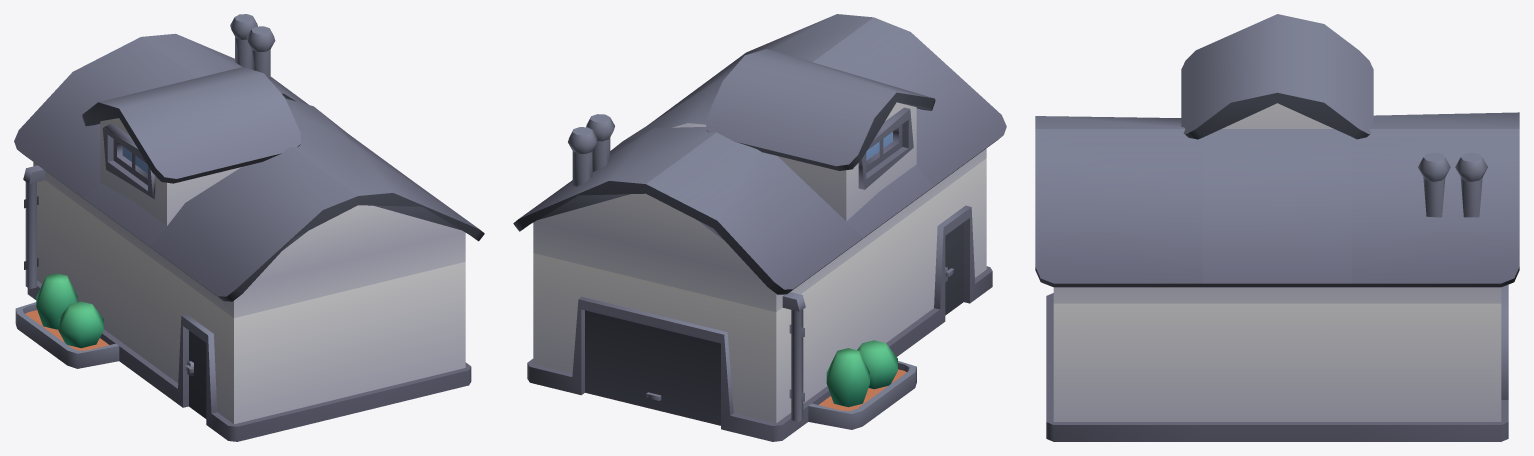
Rendered from building-j.lod.glb.
3 views of the same model, side by side, from view 1: azimuth 30°, elevation 25°; view 2: azimuth 150°, elevation 25°; view 3: azimuth 270°, elevation 25° (orthographic). The views are drawn at different scales.
Parts seen in each view (by area): view 1: building-j; view 2: building-j; view 3: building-j.
Part boxes in pixels (x1,y1,x2,y2): building-j: [14, 14, 484, 441]; building-j: [513, 14, 1006, 441]; building-j: [1035, 14, 1519, 441].
Size of the model in its own units: 1.03 by 0.8612 by 1.3.
1 material, 1 textured.
